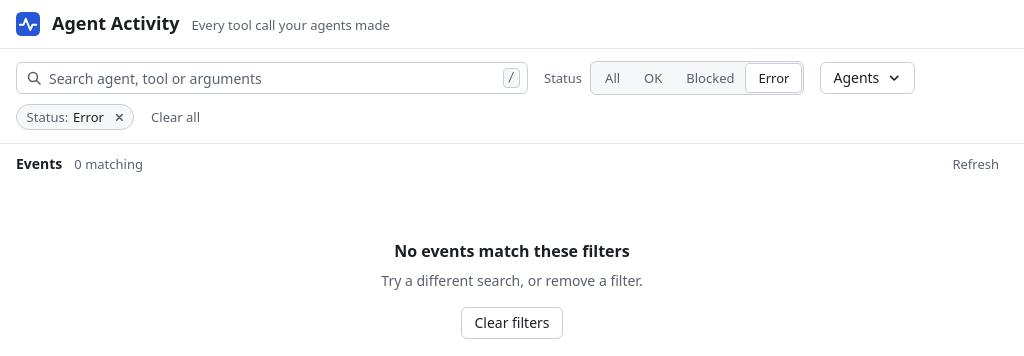
Scenario: event list › tells "no match" apart from "no events", and Clear filters resets the URL
Expected: the text "No events match these filters" is shown, [394,240,630,263]
Click the button "Clear filters".
click(512, 324)  # box [461,308,562,340]
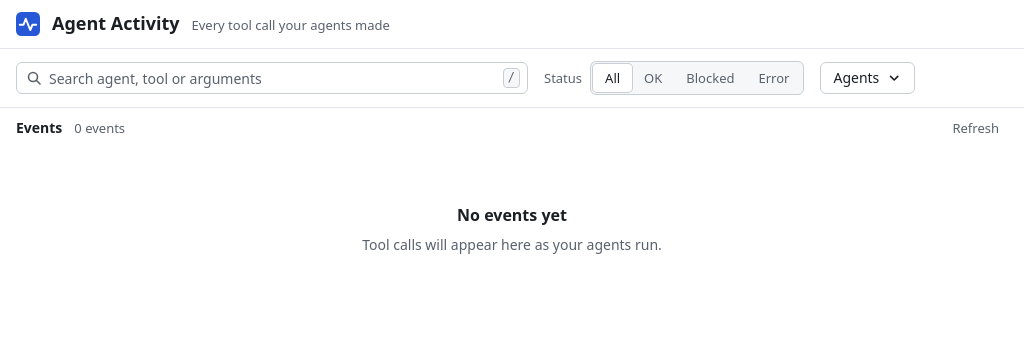
Expected: the text "No events yet" is shown, [457,204,567,227]
